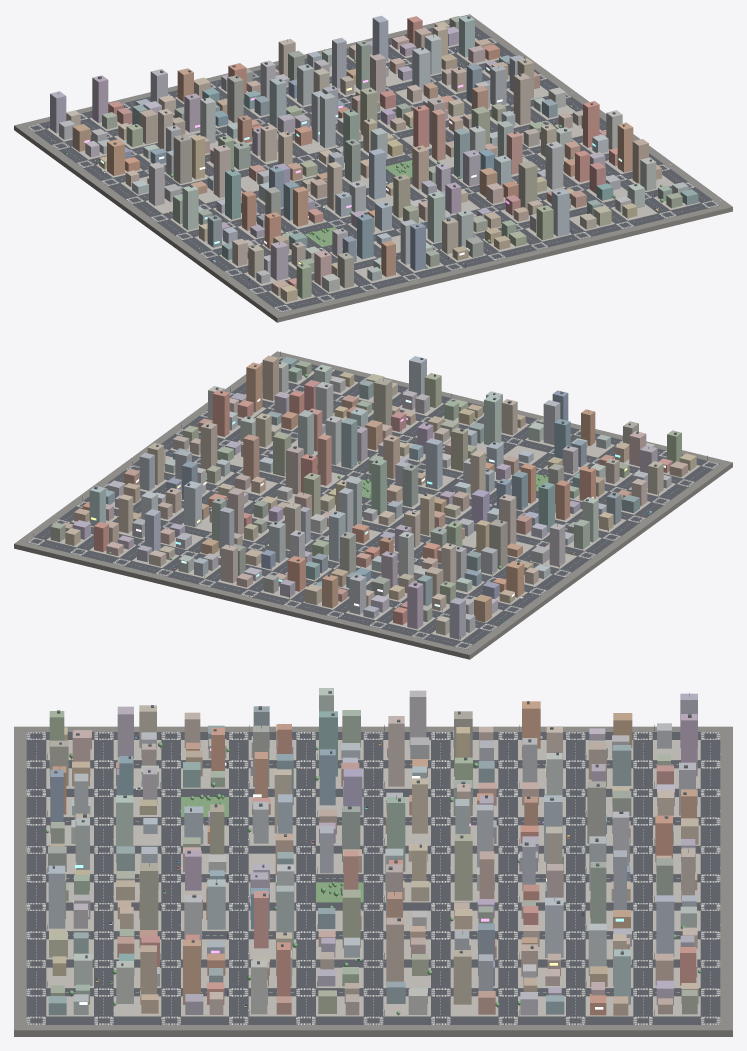
Rendered from neon_city.glb.
The picture shows the model from 3 angles, top to bottom: view 1: azimuth 30°, elevation 25°; view 2: azimuth 150°, elevation 25°; view 3: azimuth 270°, elevation 25°; orthographic projection. The views are drawn at different scales.
Parts seen in each view (by area): view 1: Buildings, Roads, Slabs, Island, Markings, RoofProps; view 2: Buildings, Roads, Island, Slabs, Markings, RoofProps; view 3: Buildings, Roads, Slabs, Island, Markings, RoofProps, Trees, Lamps.
Boxes of the visible parts, <box> form: Buildings: <box>50,15,698,302</box>; Roads: <box>27,23,719,312</box>; Slabs: <box>46,38,700,304</box>; Island: <box>14,14,732,322</box>; Markings: <box>28,32,718,312</box>; RoofProps: <box>98,16,651,266</box>; Buildings: <box>50,355,696,639</box>; Roads: <box>27,356,719,649</box>; Island: <box>14,351,732,659</box>; Slabs: <box>46,371,700,641</box>; Markings: <box>28,357,718,649</box>; RoofProps: <box>94,357,676,585</box>; Buildings: <box>48,688,698,1015</box>; Roads: <box>26,732,720,1024</box>; Slabs: <box>46,740,700,1016</box>; Island: <box>14,726,732,1036</box>; Markings: <box>26,732,720,1024</box>; RoofProps: <box>52,691,691,965</box>; Trees: <box>45,742,701,1015</box>; Lamps: <box>26,725,700,1025</box>.
Size of what is drawn, in the model's own units: 512 by 63.3 by 512.
